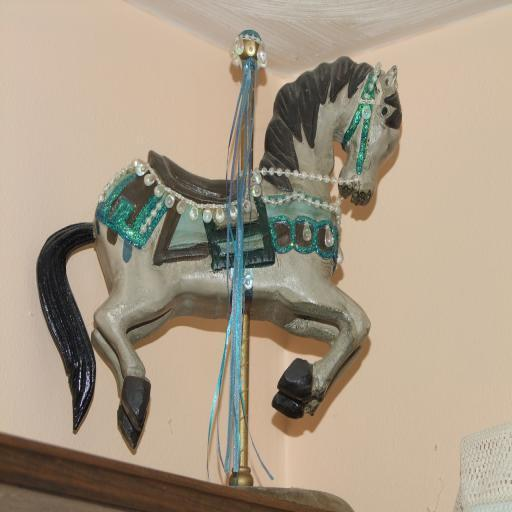horse: (35, 52, 402, 452)
